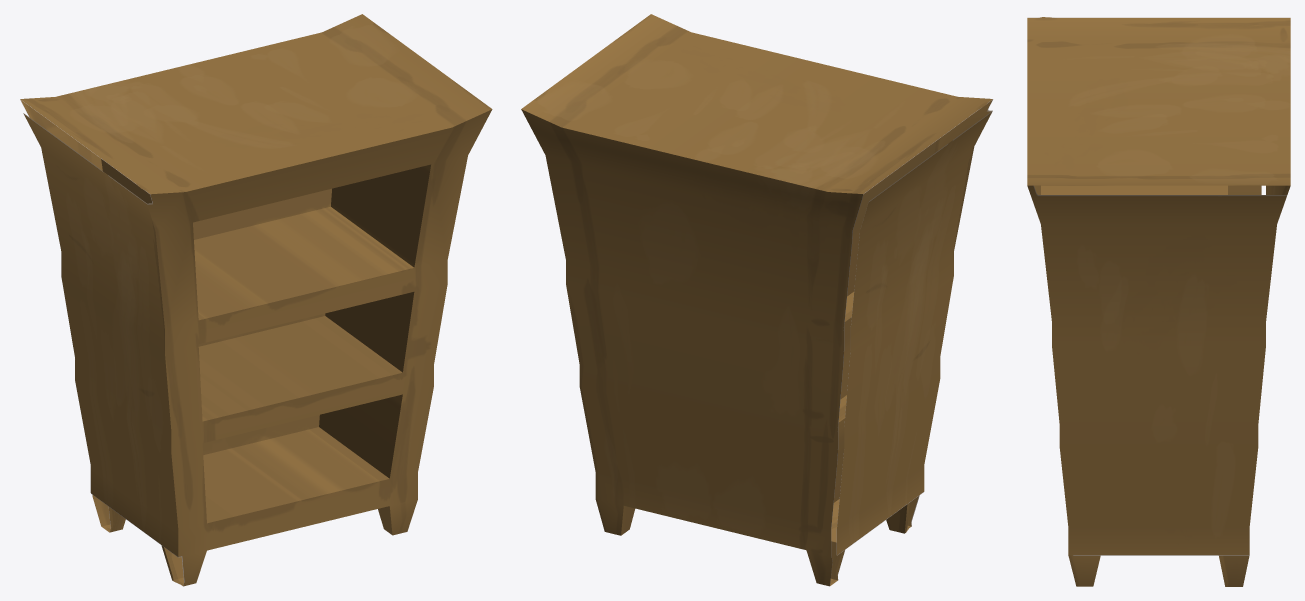
The model's file is Bookshelf_broken.fbx.
3 views of the same model, side by side, from view 1: azimuth 30°, elevation 25°; view 2: azimuth 150°, elevation 25°; view 3: azimuth 270°, elevation 25° (orthographic).
Visible parts, largest first — view 1: pCube1; view 2: pCube1; view 3: pCube1.
Part boxes in pixels (x1,y1,x2,y2): pCube1: (20,14,492,586); pCube1: (521,14,993,586); pCube1: (1027,17,1290,586).
Size of the model in its own units: 5.55 by 6.49 by 3.59.
Materials: 1 (1 with a texture image).
